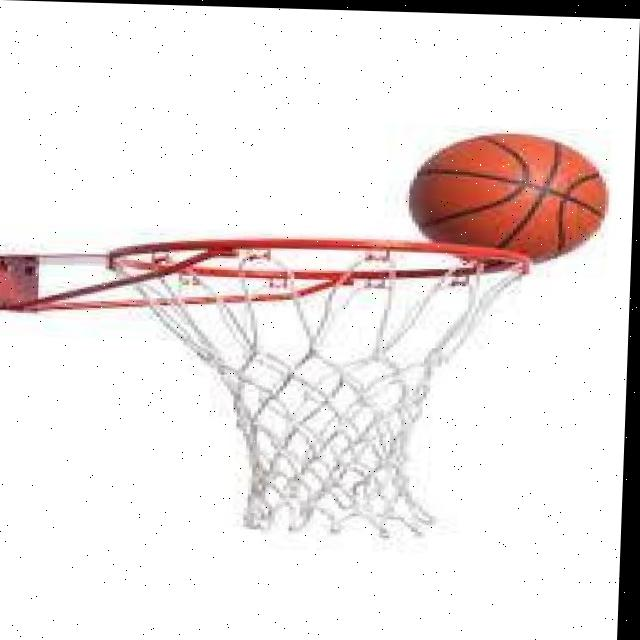rebound_hit: (399, 128, 611, 276)
